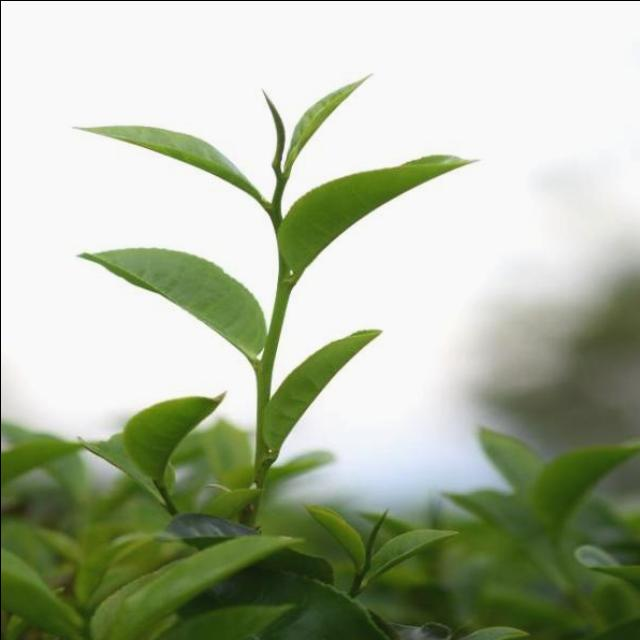Stem: (270, 202, 279, 217)
